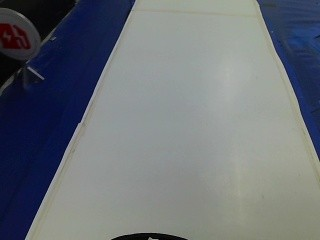battery: (0, 4, 36, 67)
